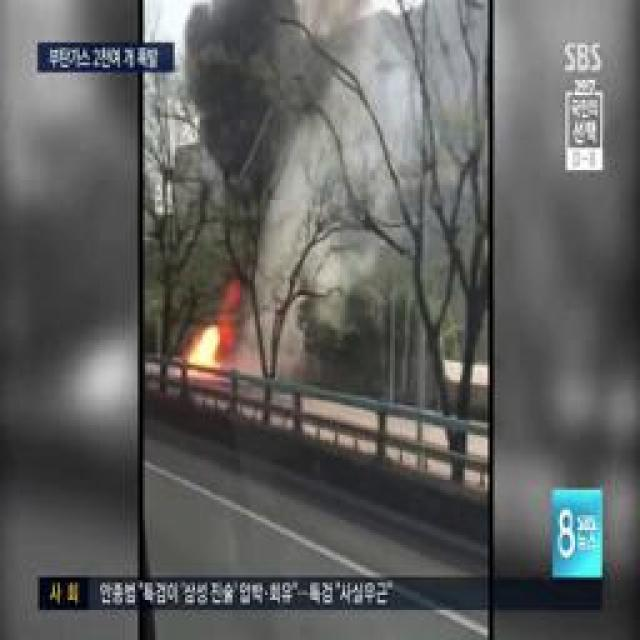Fire: (190, 328, 240, 374)
